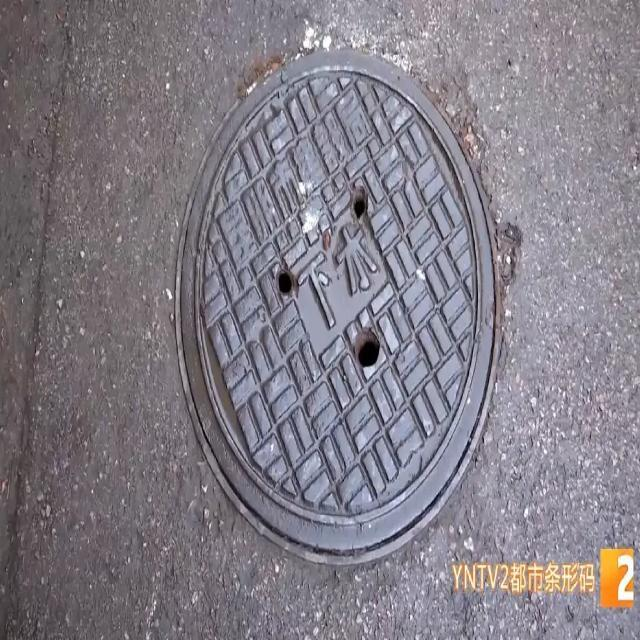manhole: (176, 51, 496, 563)
